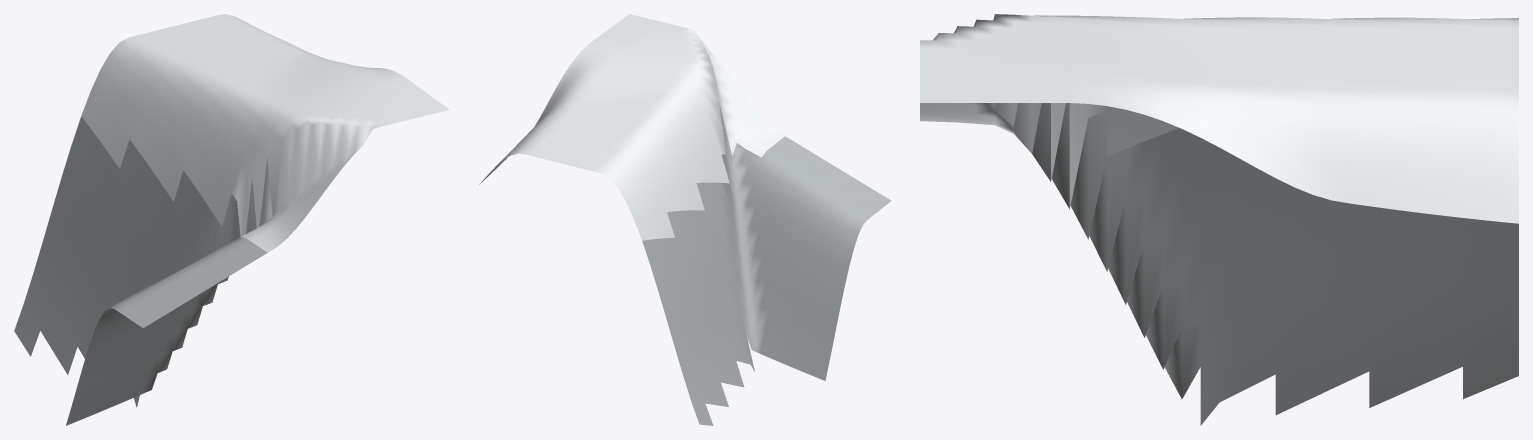
Rendered from alpine-12-11.glb.
3 renders of one model, left to right at view 1: azimuth 30°, elevation 25°; view 2: azimuth 150°, elevation 25°; view 3: azimuth 270°, elevation 25°, orthographic. The views are drawn at different scales.
Parts seen in each view (by area): view 1: alpine-12-11; view 2: alpine-12-11; view 3: alpine-12-11.
Part boxes in pixels (x1,y1,x2,y2): alpine-12-11: (14,14,449,425); alpine-12-11: (479,14,891,425); alpine-12-11: (920,14,1518,425).
Size of the model in its own units: 256 by 242 by 256.
Materials: 2 (2 with a texture image).
